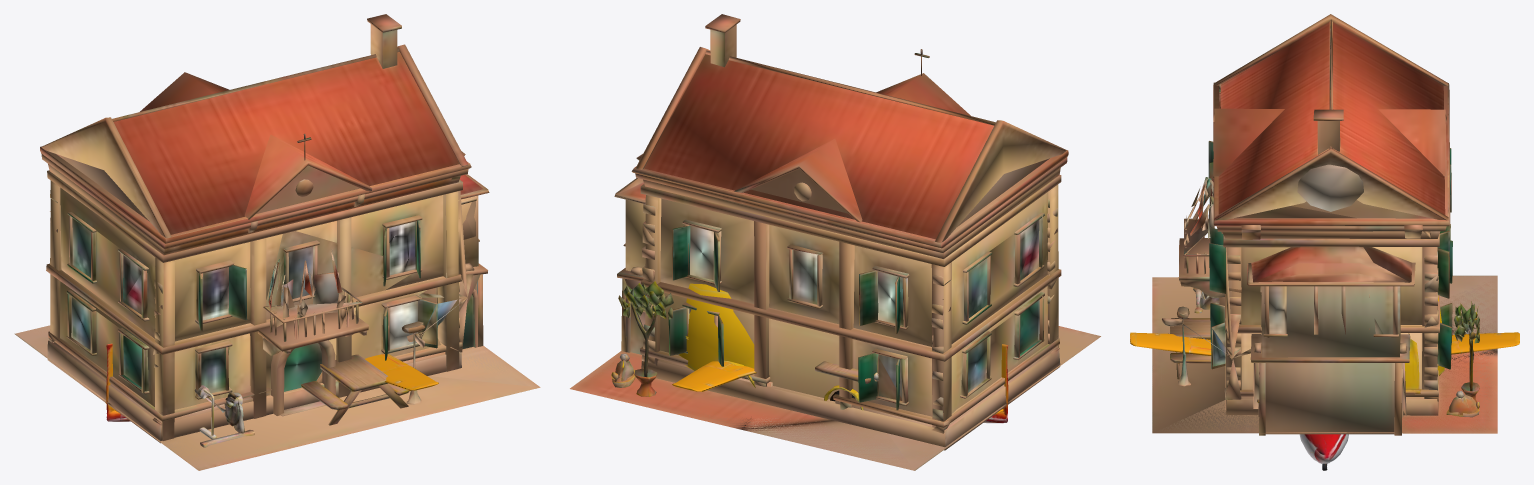
The model's file is props.glb.
3 renders of one model, left to right at view 1: azimuth 30°, elevation 25°; view 2: azimuth 150°, elevation 25°; view 3: azimuth 270°, elevation 25°, orthographic. The views are drawn at different scales.
Visible parts, largest first — view 1: prop_mairie_pdc, prop_terrasse_cesi, prop_canadair; view 2: prop_mairie_pdc, prop_terrasse_cesi, prop_canadair; view 3: prop_mairie_pdc, prop_terrasse_cesi, prop_canadair.
Boxes of the visible parts, box(x1,y1,x2,y2) form: prop_mairie_pdc: box(14, 14, 540, 470); prop_terrasse_cesi: box(194, 354, 409, 447); prop_canadair: box(105, 343, 438, 421); prop_mairie_pdc: box(570, 14, 1100, 470); prop_terrasse_cesi: box(611, 281, 879, 410); prop_canadair: box(672, 344, 1008, 423); prop_mairie_pdc: box(1152, 14, 1497, 435); prop_terrasse_cesi: box(1170, 288, 1479, 417); prop_canadair: box(1130, 332, 1519, 470).
Bounding box in the file's own units: 0.5 × 0.5262 × 0.5282.
4 materials, 4 textured.
